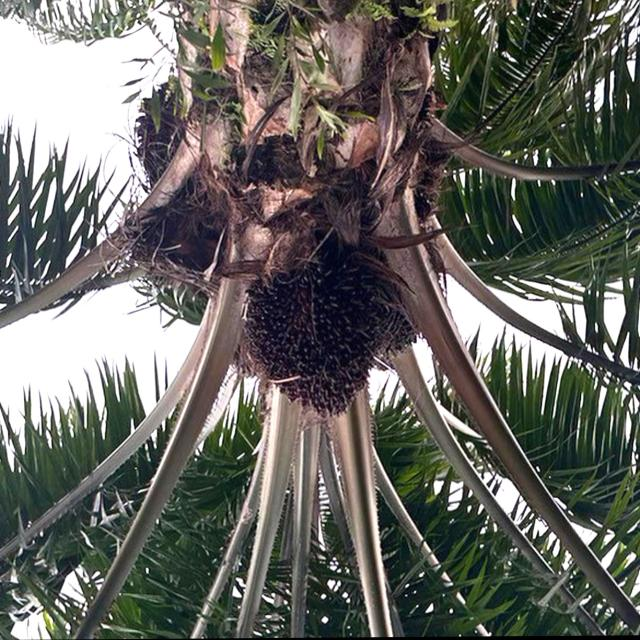ripe: (244, 277, 418, 424)
